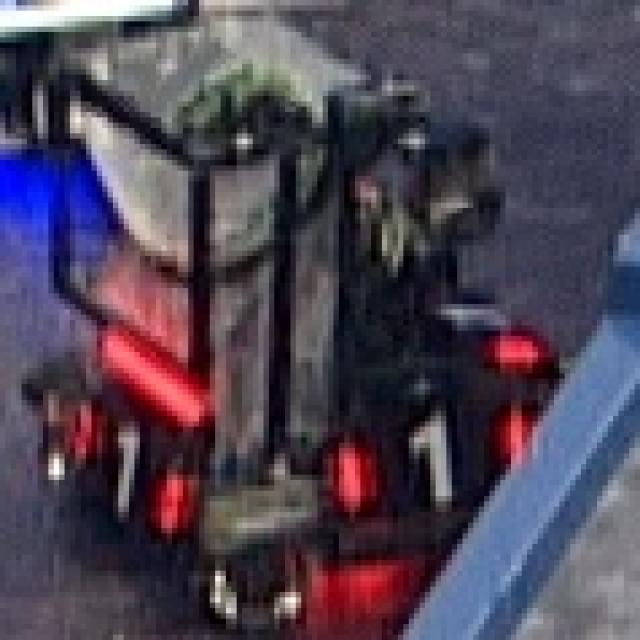R1: (328, 405, 533, 512), (70, 411, 188, 538), (419, 283, 538, 368)
